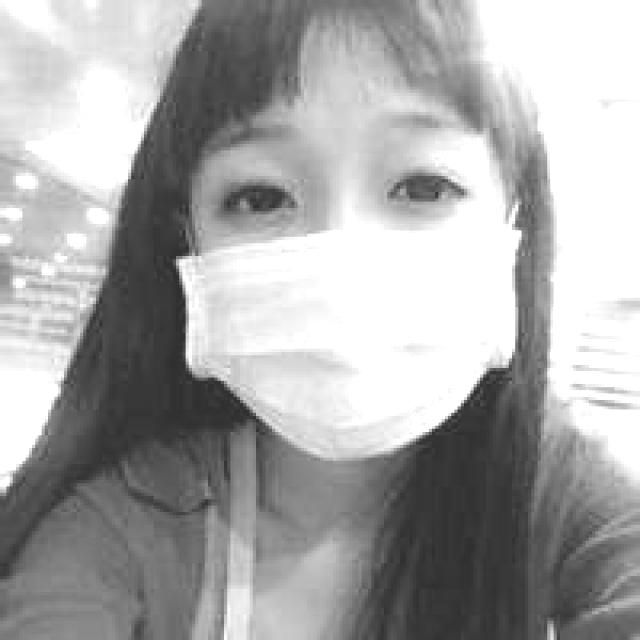fake: (170, 224, 529, 471)
real: (177, 51, 522, 468)
